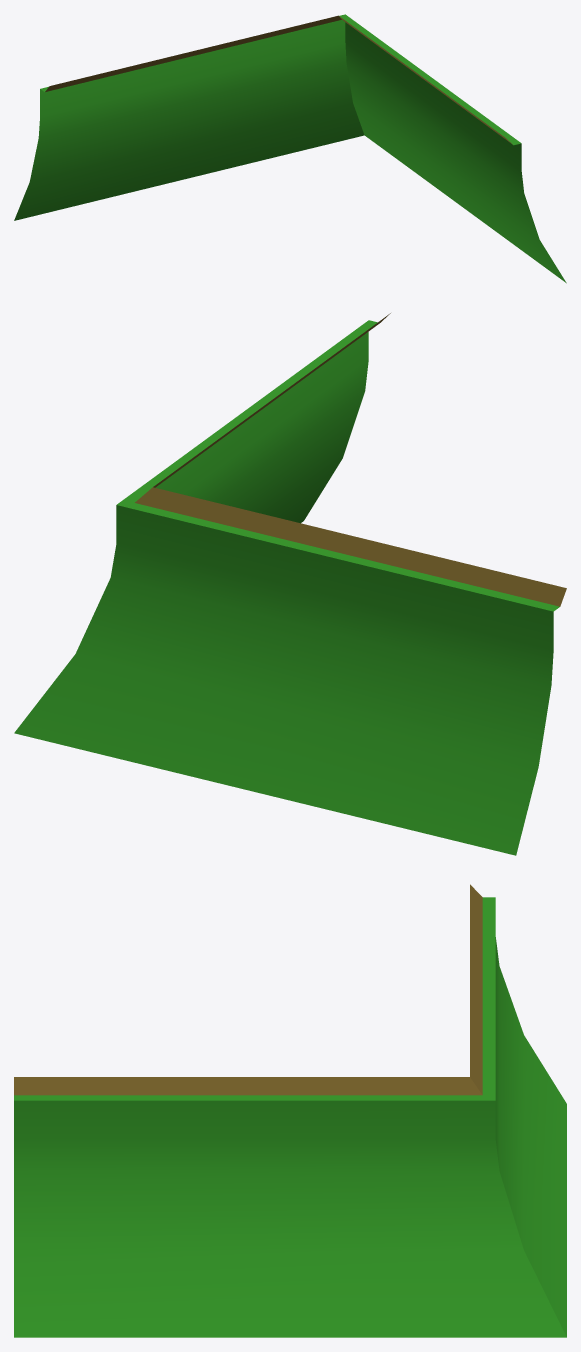
File: ModuleSC_Lfloor_001.FBX
The picture shows the model from 3 angles, top to bottom: view 1: azimuth 30°, elevation 25°; view 2: azimuth 150°, elevation 25°; view 3: azimuth 270°, elevation 25°; orthographic projection. The views are drawn at different scales.
Parts seen in each view (by area): view 1: ModuleSC_Lfloor_a1; view 2: ModuleSC_Lfloor_a1; view 3: ModuleSC_Lfloor_a1.
Part boxes in pixels (x1,y1,x2,y2): ModuleSC_Lfloor_a1: (14,14,566,283); ModuleSC_Lfloor_a1: (14,313,566,855); ModuleSC_Lfloor_a1: (14,884,566,1337).
Size of the model in its own units: 23.87 by 10.46 by 23.87.
